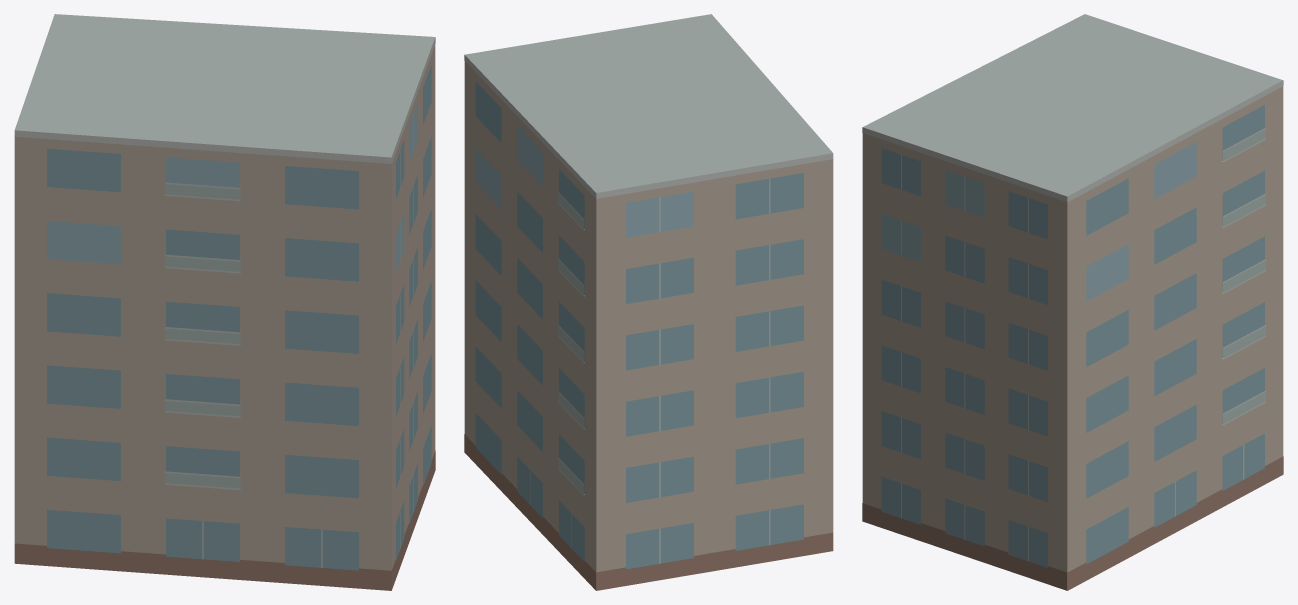
The model's file is survey-upis-32867584.glb.
The picture shows the model from 3 angles, left to right: view 1: azimuth 30°, elevation 25°; view 2: azimuth 150°, elevation 25°; view 3: azimuth 270°, elevation 25°; orthographic projection. The views are drawn at different scales.
Visible parts, largest first — view 1: survey-upis-32867584.tmp; view 2: survey-upis-32867584.tmp; view 3: survey-upis-32867584.tmp.
Boxes of the visible parts, x1,y1,x2,y2 form: survey-upis-32867584.tmp: (14,14,435,590); survey-upis-32867584.tmp: (464,14,833,590); survey-upis-32867584.tmp: (862,14,1283,590).
Size of the model in its own units: 16.4 by 16.5 by 15.97.
